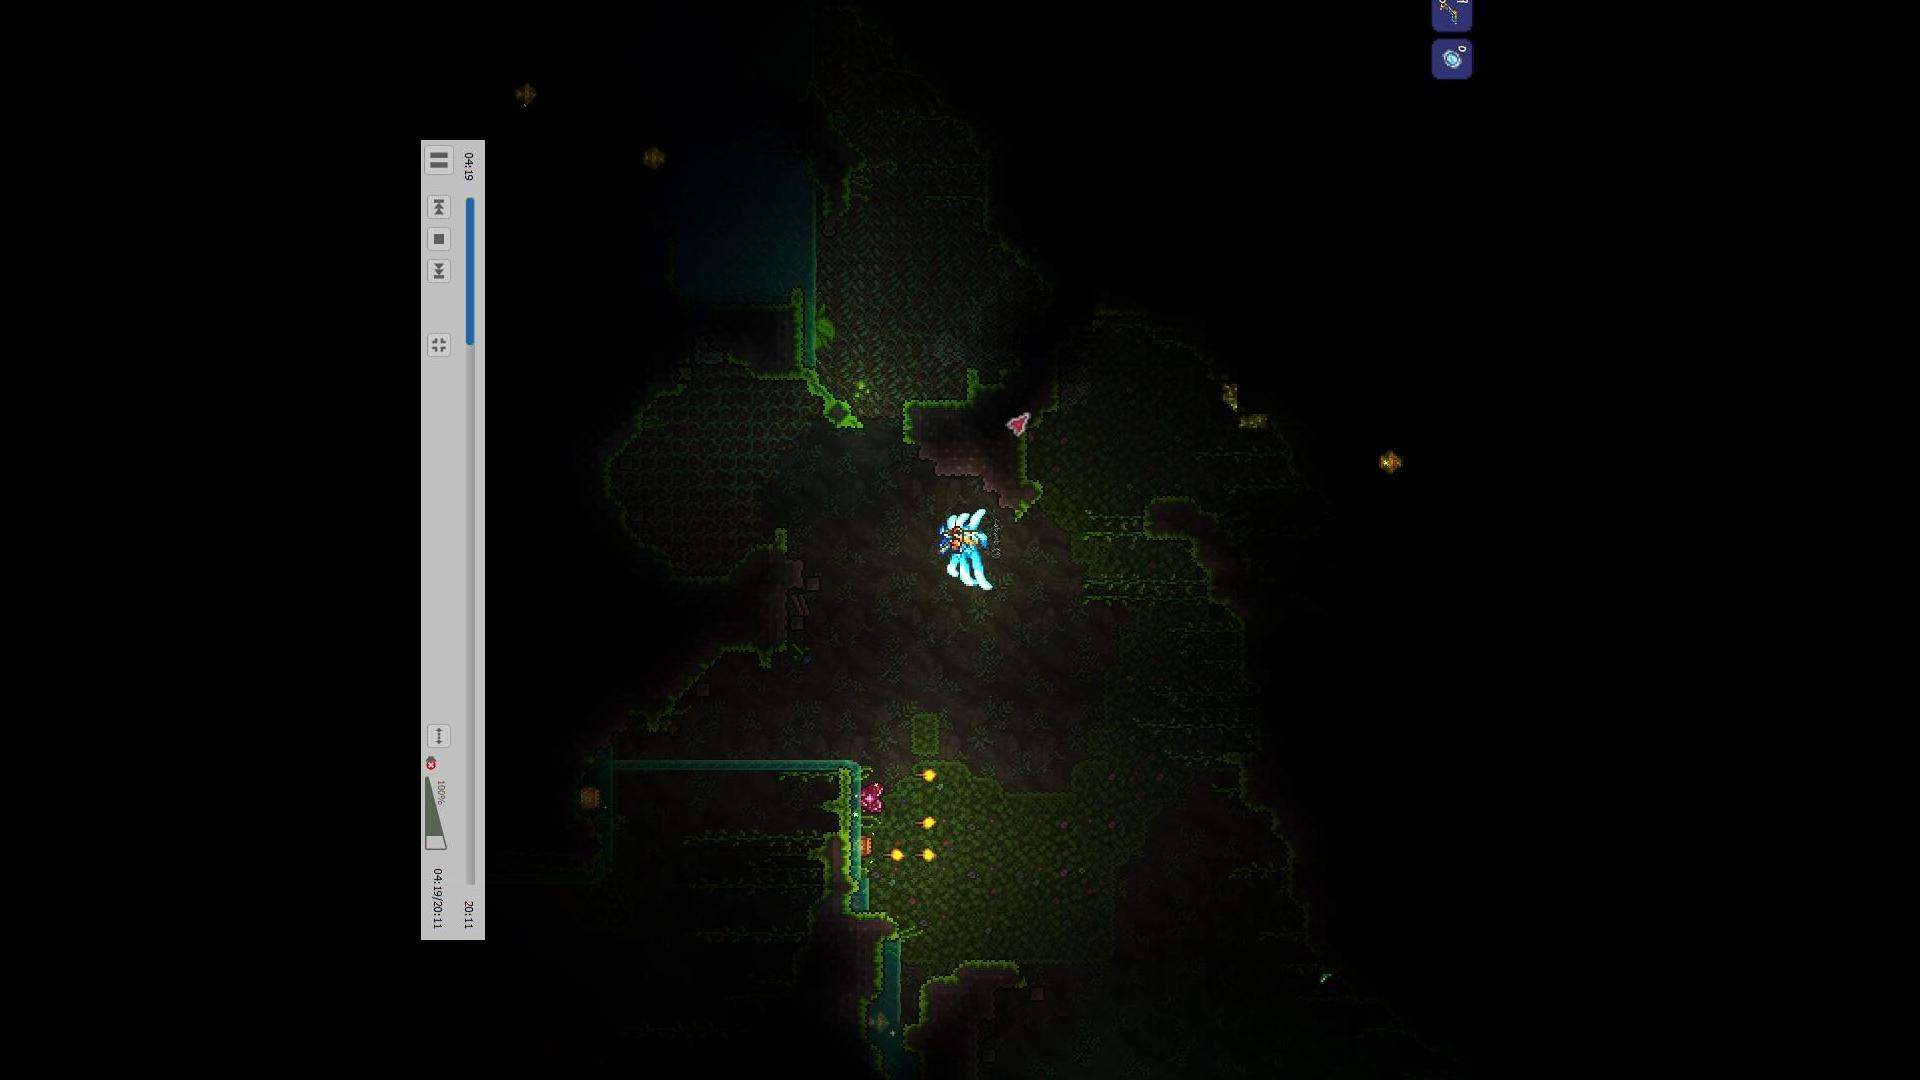lifeC: (857, 782, 886, 815)
mirror: (1443, 45, 1462, 69)
